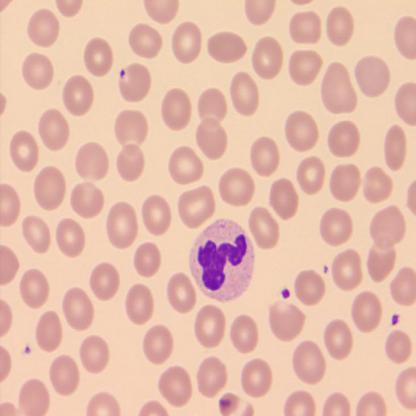Segmented neutrophil: (187, 213, 257, 304)
